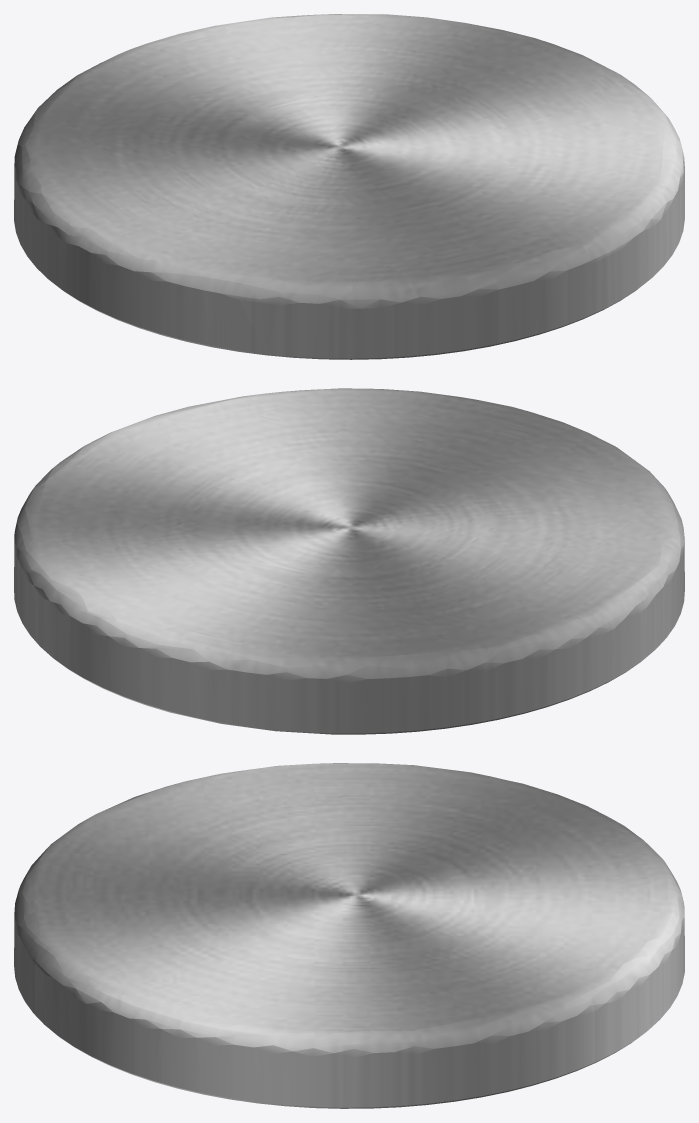
Rendered from HeaterBase_pad.fbx.
3 views of the same model, one above another, from view 1: azimuth 30°, elevation 25°; view 2: azimuth 150°, elevation 25°; view 3: azimuth 270°, elevation 25° (orthographic).
Visible parts, largest first — view 1: heaterbase49; view 2: heaterbase49; view 3: heaterbase49.
Boxes of the visible parts, x1,y1,x2,y2 form: heaterbase49: [14, 14, 684, 359]; heaterbase49: [14, 388, 684, 734]; heaterbase49: [14, 763, 684, 1108].
Size of the model in its own units: 10 by 1.16 by 10.
